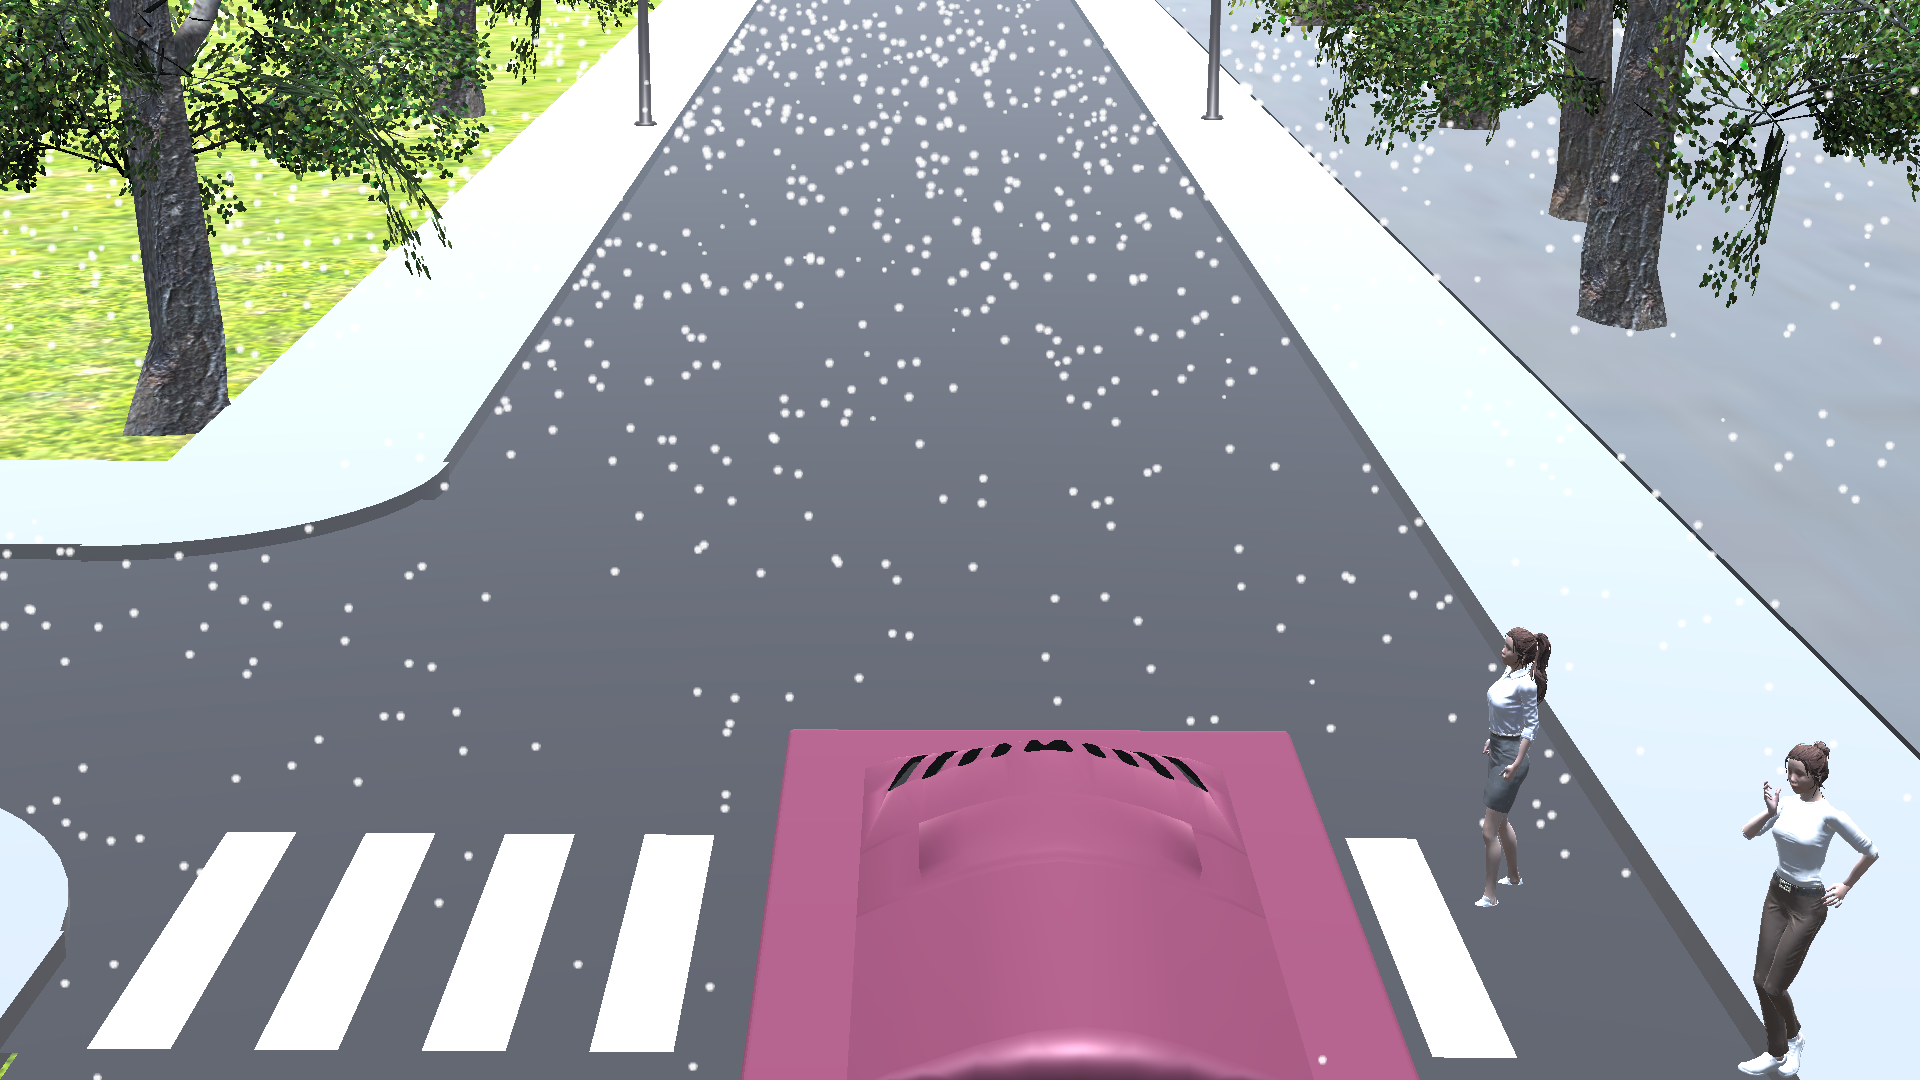pedestrian: (1724, 720, 1884, 1080), (1457, 615, 1562, 918)
